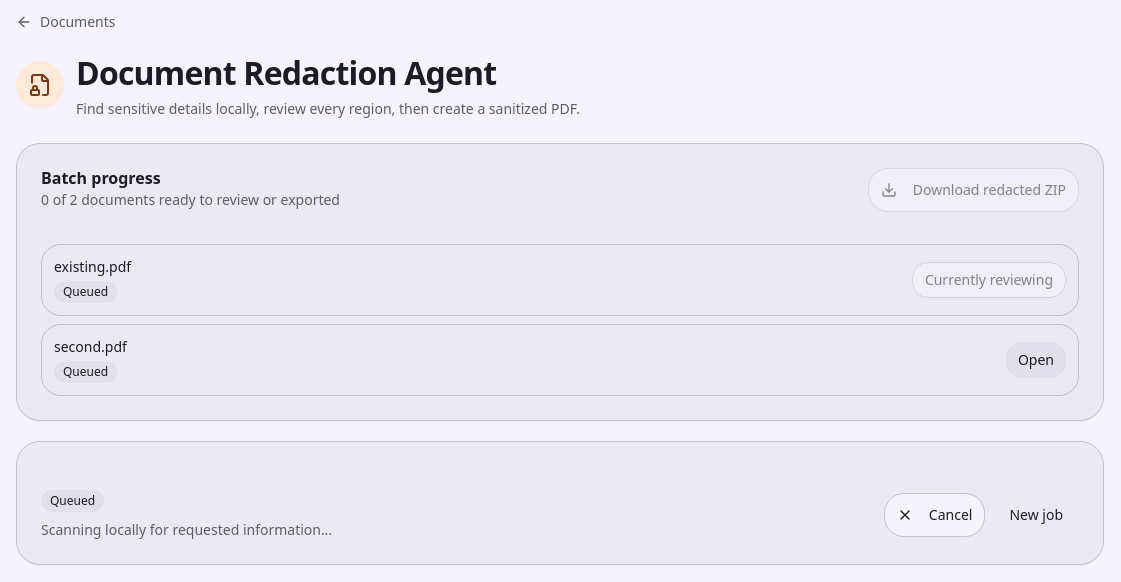
Test case: RedactionPage uploads › shows batch progress and opens another document job
Expected: the text "Batch progress" is shown, [41,167,161,189]
Expected: the text "second.pdf" is shown, [54,337,127,356]
Click the button "Open".
click(1036, 360)  # box [1006,342,1066,378]
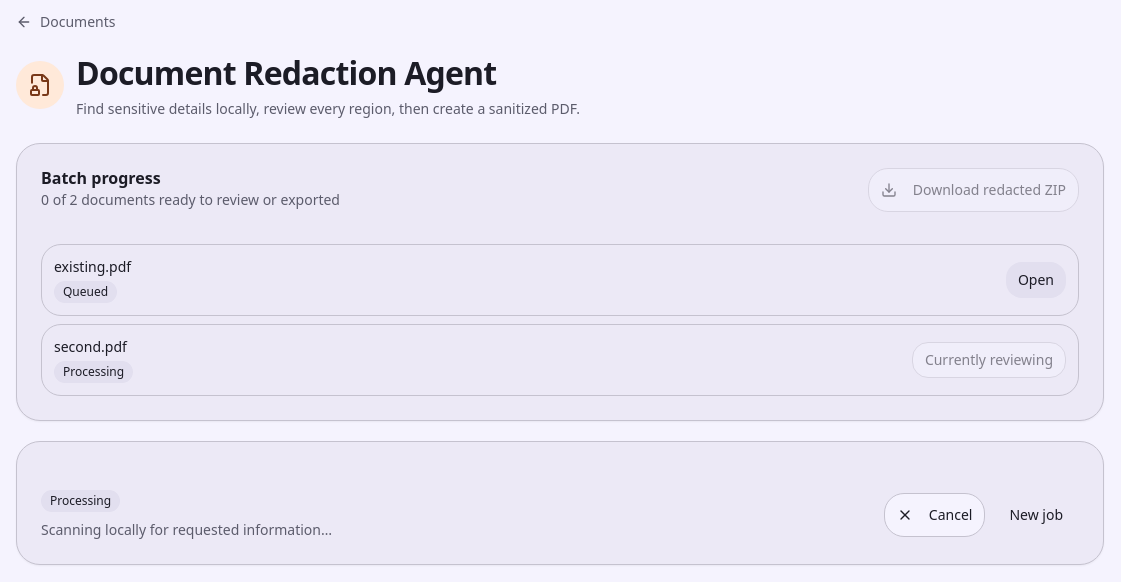
Expected: the button "Currently reviewing" is shown, [912,342,1066,378]
